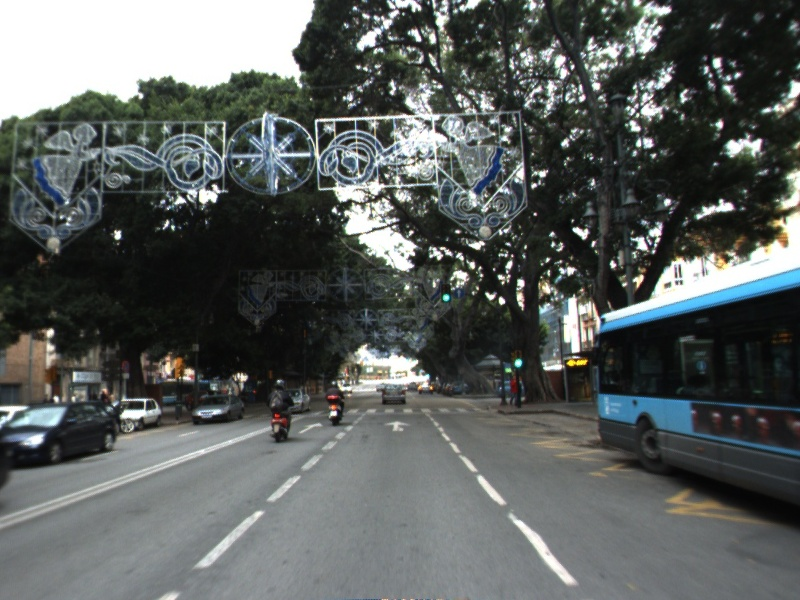STRAIGHT: (296, 420, 325, 436), (383, 419, 413, 433)
